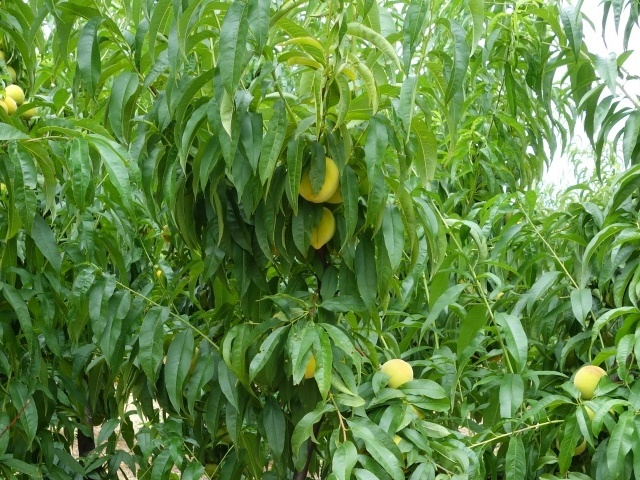peach: (298, 151, 341, 204), (305, 201, 341, 251), (375, 354, 420, 393), (573, 360, 612, 404), (1, 82, 28, 106), (3, 96, 25, 117)
